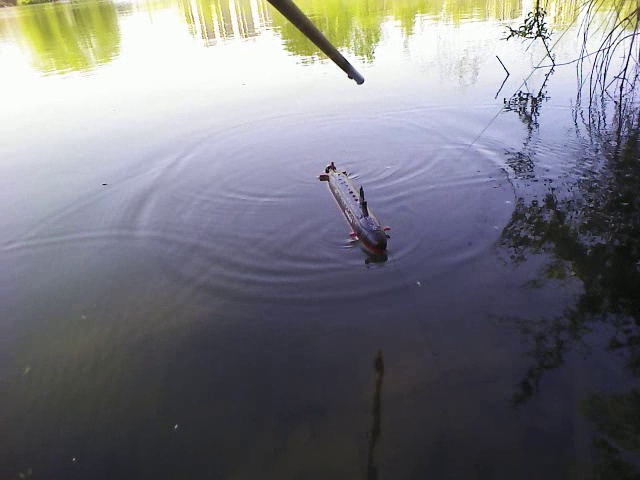submarine: (319, 159, 392, 253)
